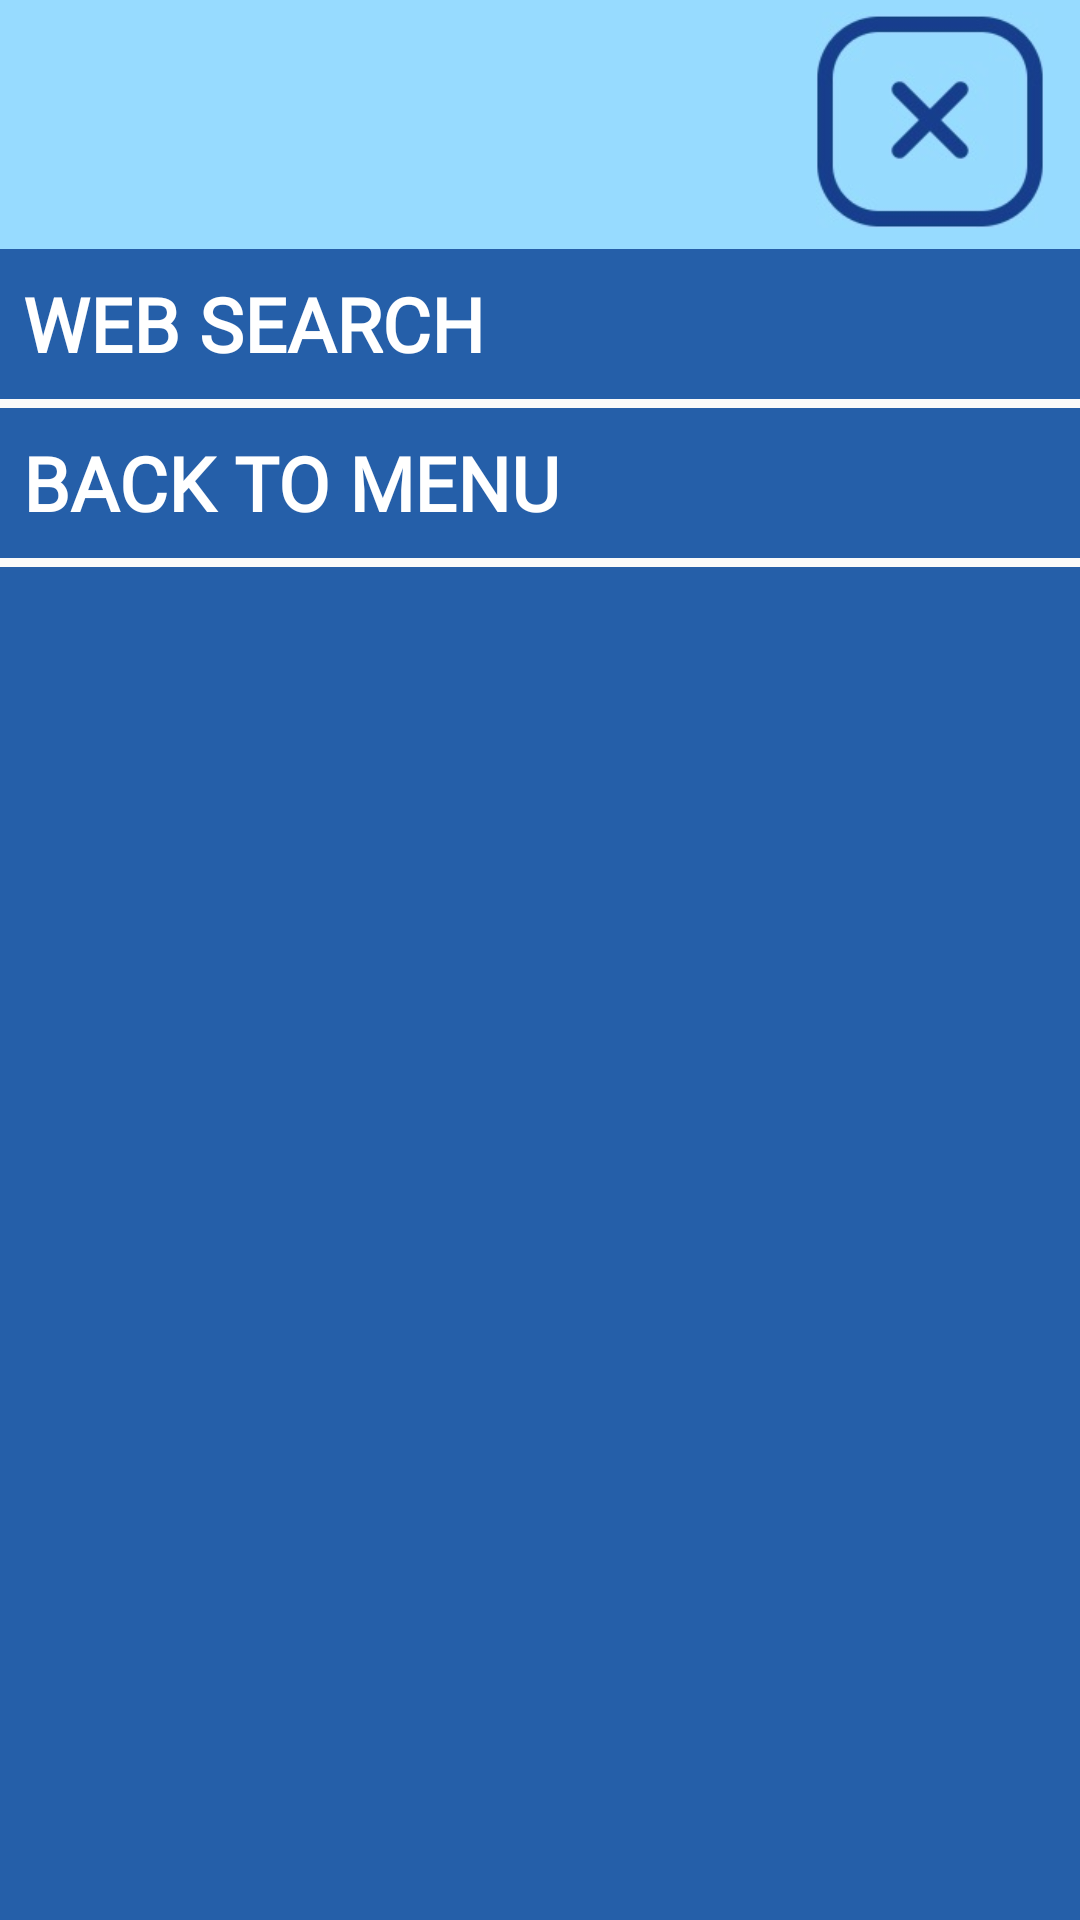

Icon bounding boxes for this 1080 × 1920 phone screenshot, format (x1,y1,x2,y2):
btnclose: (817,16,1043,227)
